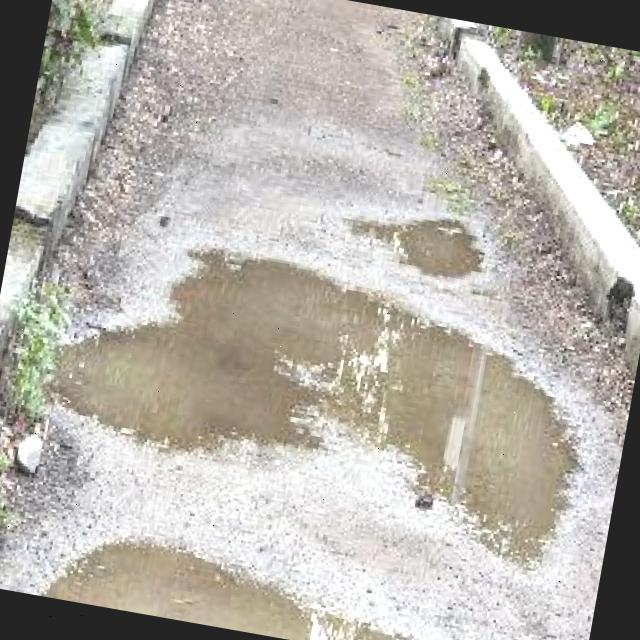stagnation: (59, 215, 601, 562), (42, 512, 464, 640), (376, 195, 496, 294)
